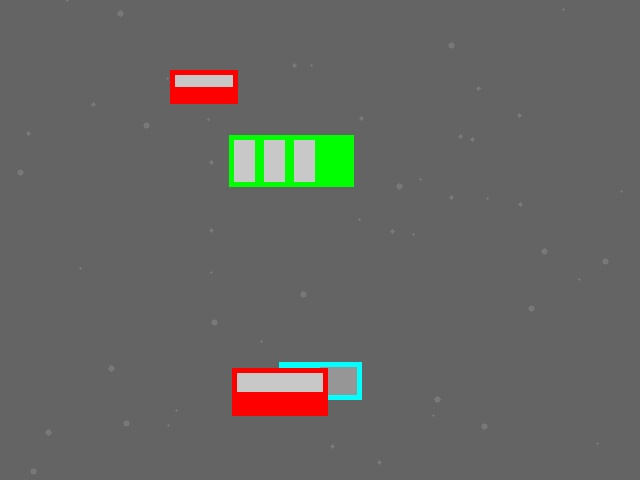bus: (229, 135, 353, 186)
car: (232, 368, 327, 415), (170, 70, 237, 103)
truck: (279, 362, 361, 399)
